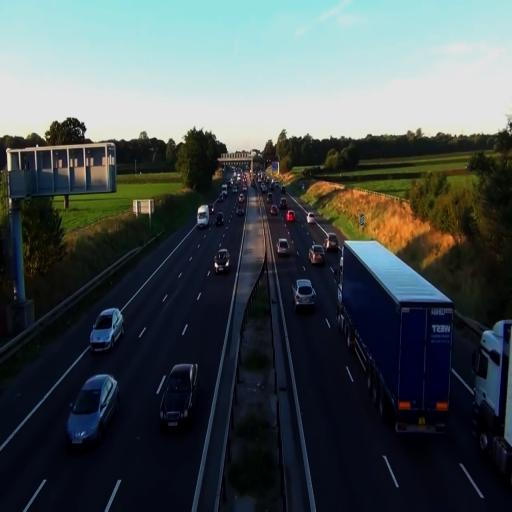vehicle: (341, 237, 454, 437), (470, 319, 512, 490), (64, 373, 119, 450), (158, 363, 200, 432), (89, 308, 125, 354), (293, 278, 317, 314), (212, 247, 230, 274), (308, 244, 326, 267), (276, 236, 293, 258), (196, 205, 210, 229), (214, 209, 224, 226), (286, 210, 295, 224)
